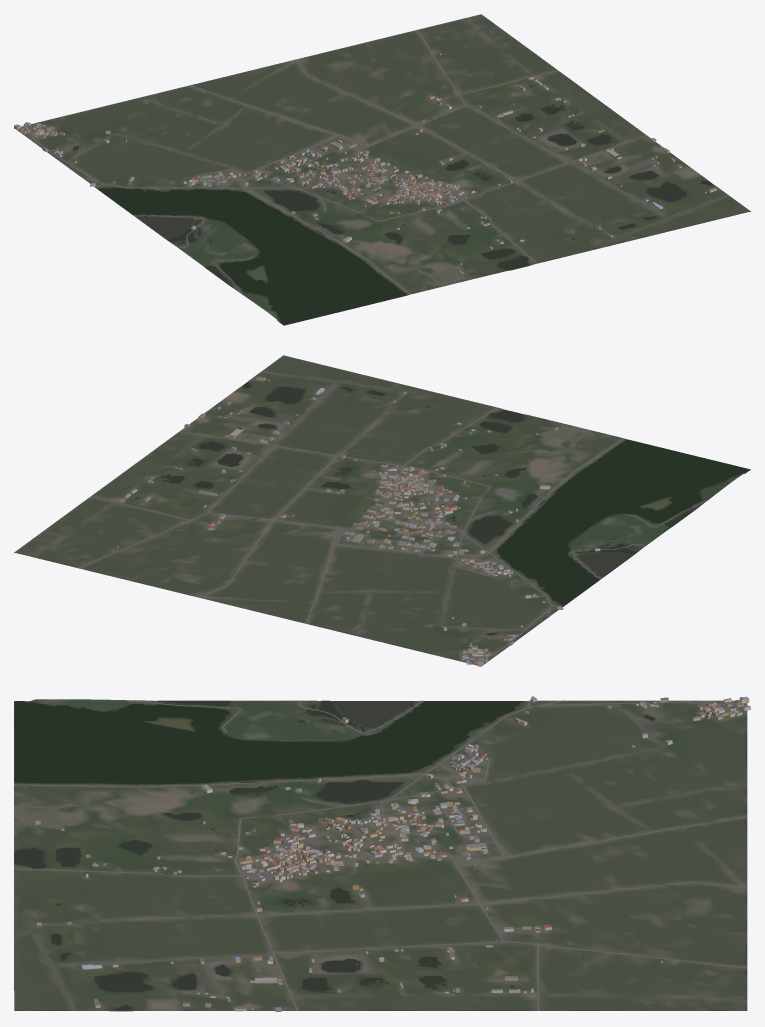
3 renders of one model, top to bottom at view 1: azimuth 30°, elevation 25°; view 2: azimuth 150°, elevation 25°; view 3: azimuth 270°, elevation 25°, orthographic. The views are drawn at different scales.
Parts seen in each view (by area): view 1: ground, water, buildings, roads; view 2: ground, water, buildings, roads; view 3: ground, water, buildings, roads.
Boxes of the visible parts, x1=… form: ground: x1=14, y1=14, x2=750, y2=325; water: x1=72, y1=86, x2=713, y2=325; buildings: x1=14, y1=53, x2=716, y2=274; roads: x1=18, y1=30, x2=646, y2=294; ground: x1=14, y1=355, x2=750, y2=665; water: x1=136, y1=382, x2=749, y2=635; buildings: x1=117, y1=376, x2=600, y2=666; roads: x1=78, y1=407, x2=706, y2=663; ground: x1=14, y1=699, x2=747, y2=1011; water: x1=14, y1=700, x2=654, y2=1010; buildings: x1=34, y1=696, x2=750, y2=1011; roads: x1=14, y1=700, x2=747, y2=1010.
Size of the model in its own units: 1417 by 14.42 by 1409.
